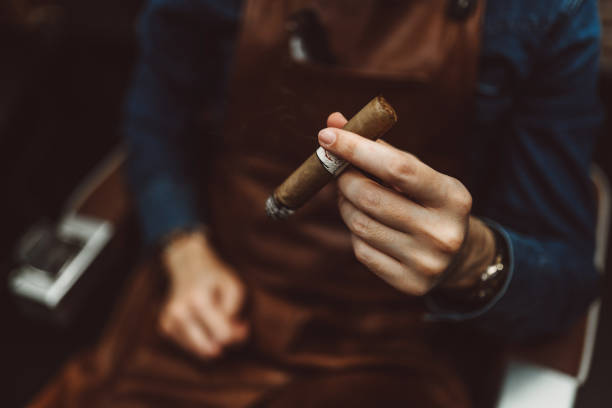cigarette: (263, 95, 398, 224)
